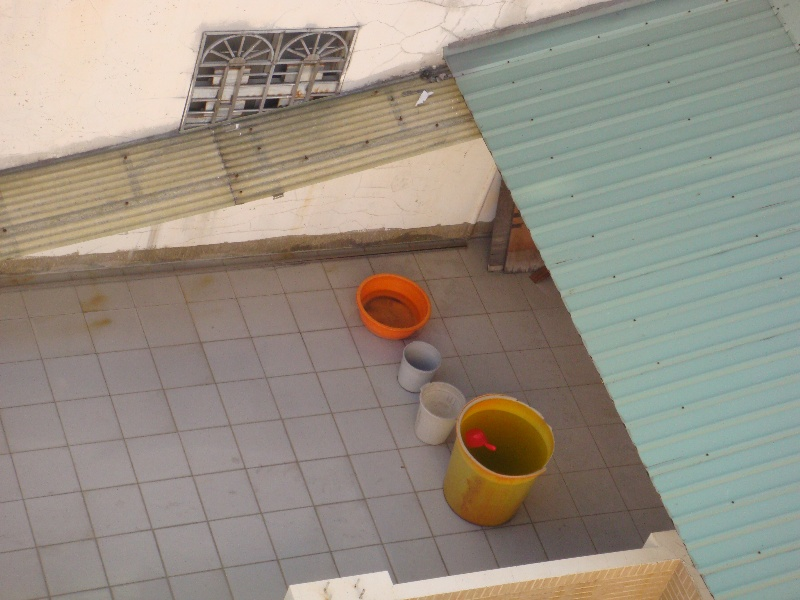bowl: (356, 271, 433, 341)
bucket: (438, 392, 556, 529), (411, 380, 467, 447), (397, 339, 443, 394)
